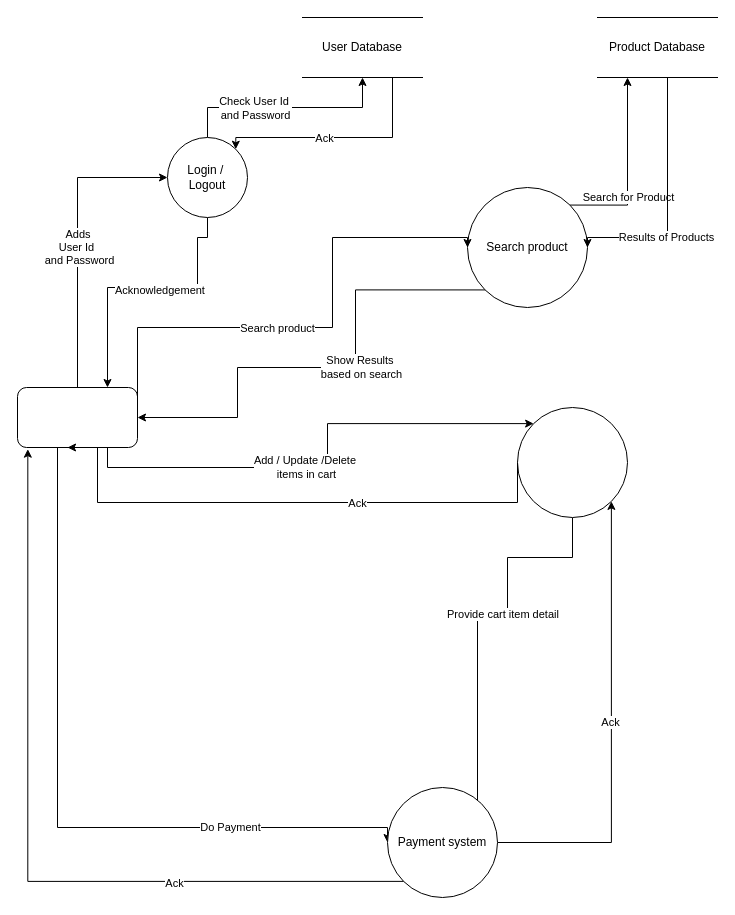
Image size: 735x915. Some labels were removed from this diagram. The shapes that lost their labels are listed below. From the top down, each one's centre as x and y in pixels, then its label:
At (77,417): "User".
At (572,462): "Manage cart".
